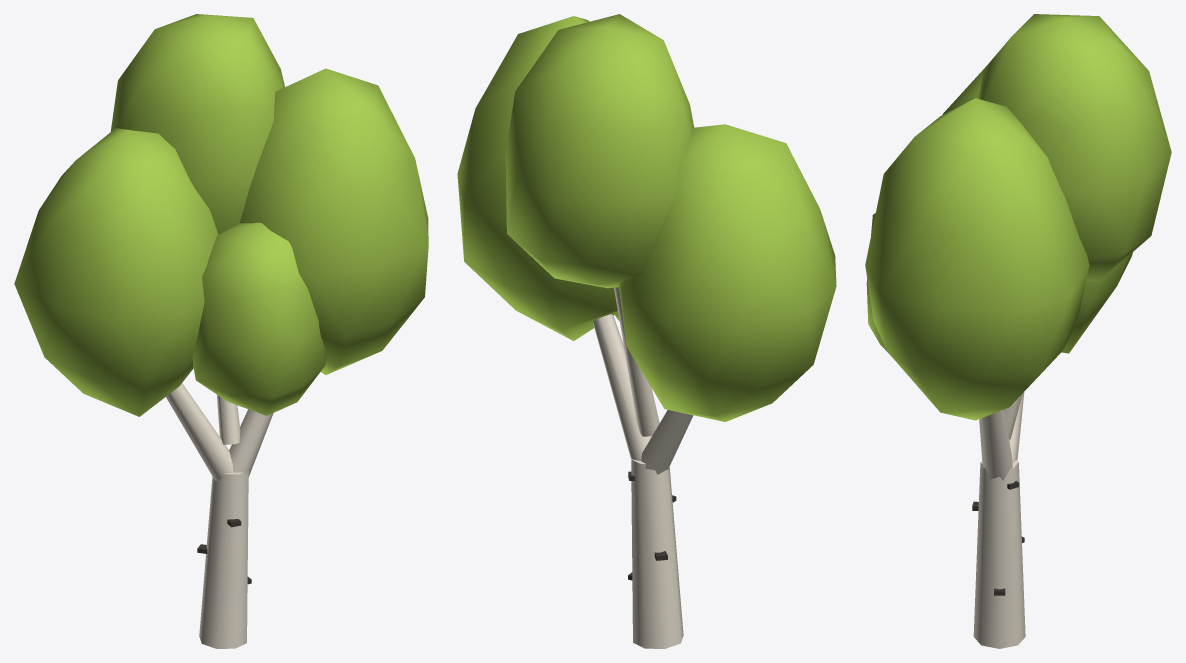
File: tree_3.glb
The picture shows the model from 3 angles, left to right: view 1: azimuth 30°, elevation 25°; view 2: azimuth 150°, elevation 25°; view 3: azimuth 270°, elevation 25°; orthographic projection. The views are drawn at different scales.
Parts seen in each view (by area): view 1: Tree_3; view 2: Tree_3; view 3: Tree_3.
Boxes of the visible parts, x1,y1,x2,y2 form: Tree_3: [14, 14, 428, 648]; Tree_3: [457, 14, 836, 648]; Tree_3: [865, 14, 1171, 648].
Size of the model in its own units: 4.52 by 7.2 by 3.19.
